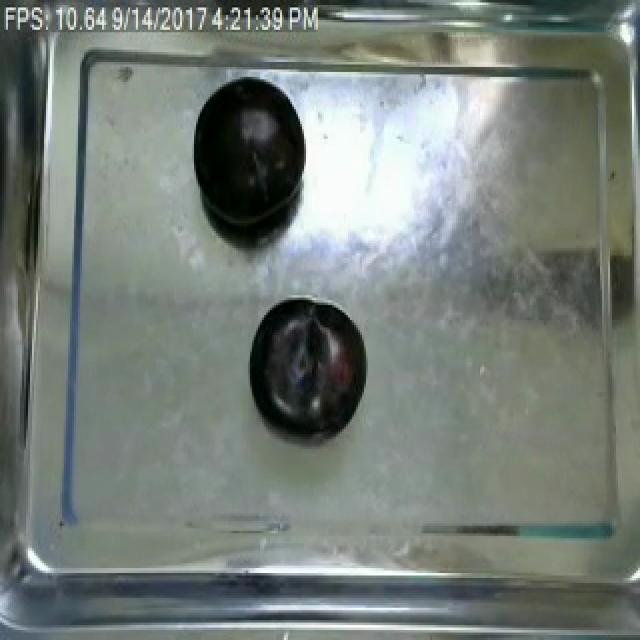Fruit: (188, 72, 312, 238), (246, 298, 370, 439)
